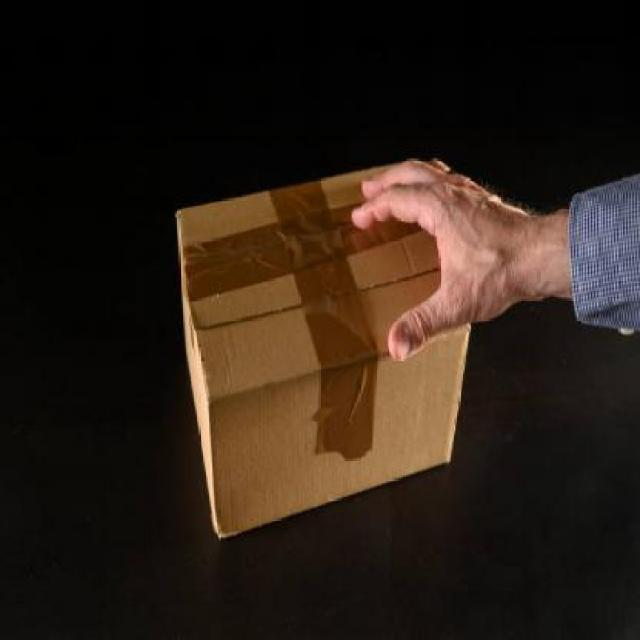box: (176, 158, 464, 542)
